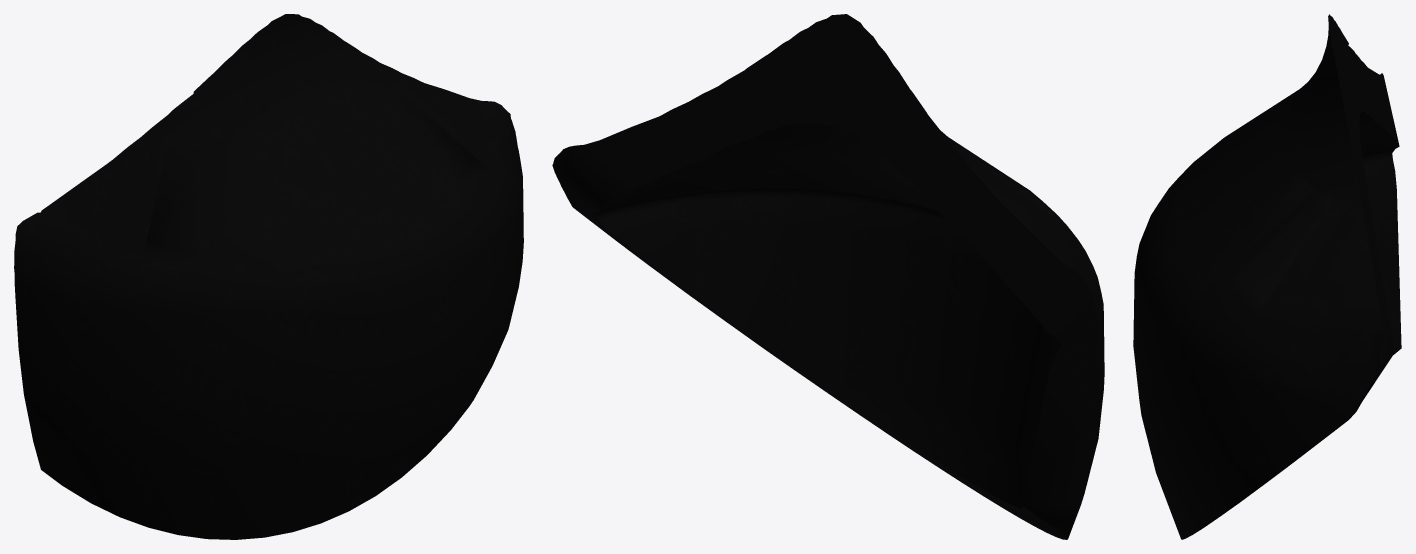
3 renders of one model, left to right at view 1: azimuth 30°, elevation 25°; view 2: azimuth 150°, elevation 25°; view 3: azimuth 270°, elevation 25°, orthographic. The views are drawn at different scales.
Visible parts, largest first — view 1: Cylinder_cell.011; view 2: Cylinder_cell.011; view 3: Cylinder_cell.011.
Boxes of the visible parts, x1,y1,x2,y2 form: Cylinder_cell.011: [14, 14, 523, 539]; Cylinder_cell.011: [552, 14, 1104, 539]; Cylinder_cell.011: [1133, 14, 1401, 539].
Bounding box in the file's own units: 1.63 × 1.45 × 0.6554.
1 material, 1 textured.
